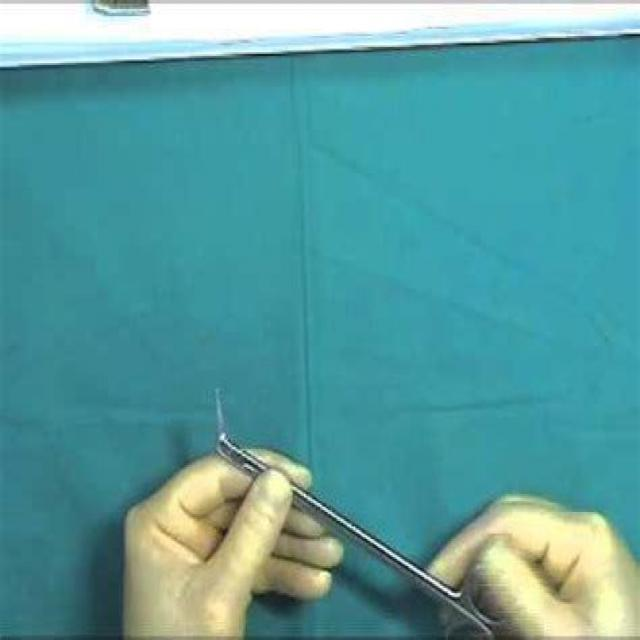Potts: (212, 381, 509, 638)
